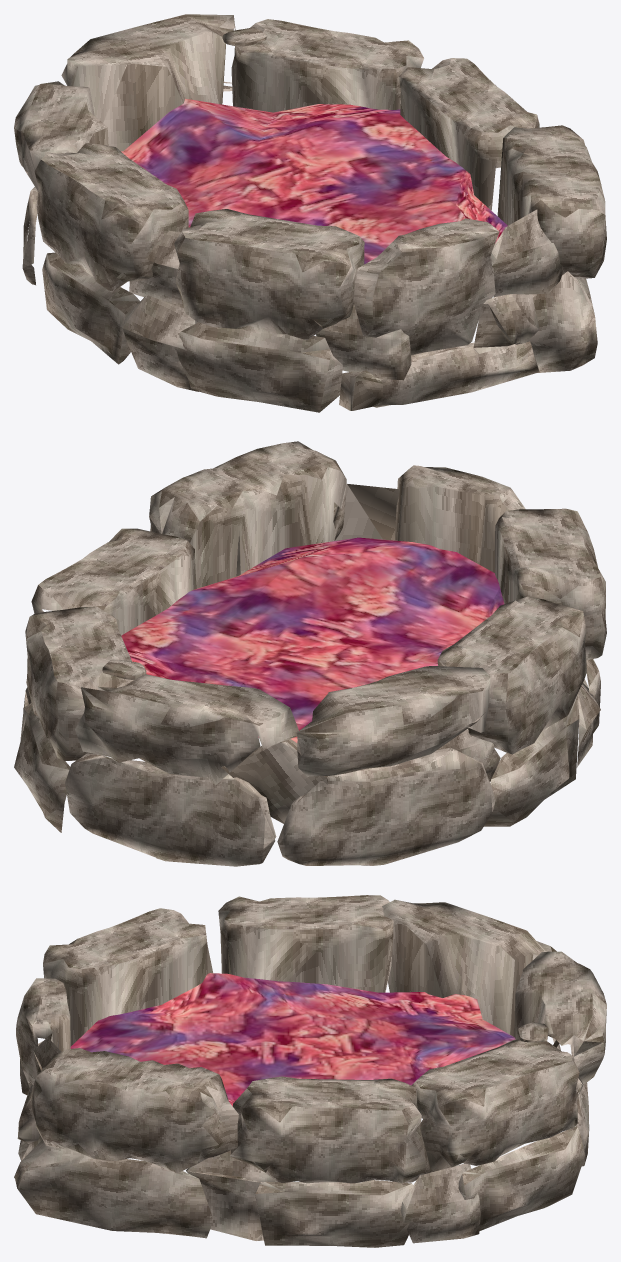
Rendered from firepit.glb.
3 renders of one model, top to bottom at view 1: azimuth 30°, elevation 25°; view 2: azimuth 150°, elevation 25°; view 3: azimuth 270°, elevation 25°, orthographic. The views are drawn at different scales.
Visible parts, largest first — view 1: firepit, embers; view 2: firepit, embers; view 3: firepit, embers.
Boxes of the visible parts, x1,y1,x2,y2 form: firepit: (14,14,606,412); embers: (121,98,507,264); firepit: (14,441,606,866); embers: (121,537,504,742); firepit: (14,895,606,1247); embers: (70,973,515,1106).
Size of the model in its own units: 2.07 by 0.7003 by 2.42.
Materials: 2 (2 with a texture image).
